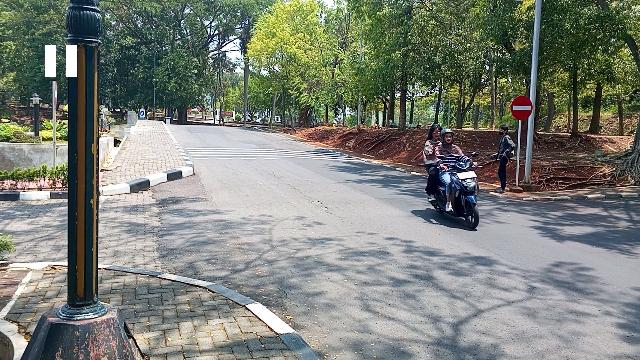helm: (442, 129, 456, 146)
motor: (425, 152, 484, 230)
non-helm: (430, 125, 443, 142)
